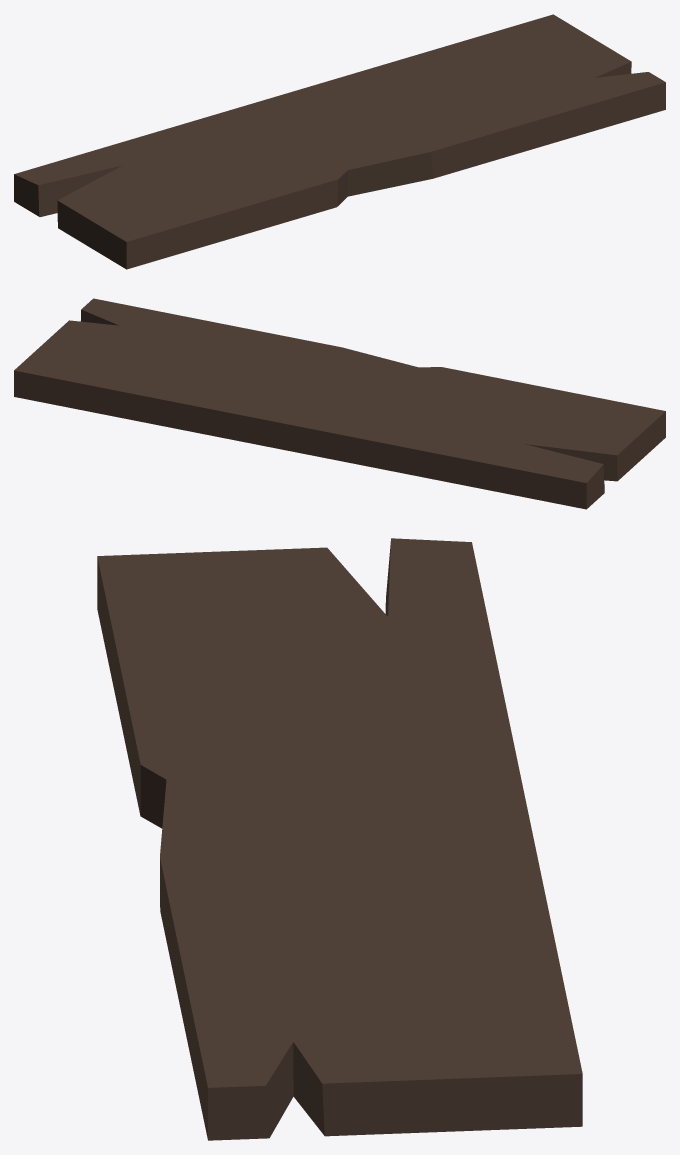
File: Board 1.fbx
3 views of the same model, one above another, from view 1: azimuth 30°, elevation 25°; view 2: azimuth 150°, elevation 25°; view 3: azimuth 270°, elevation 25° (orthographic). The views are drawn at different scales.
Visible parts, largest first — view 1: Board 1; view 2: Board 1; view 3: Board 1.
Boxes of the visible parts, left/top/right/bottom form: Board 1: left=14, top=14, right=665, bottom=269; Board 1: left=14, top=298, right=665, bottom=509; Board 1: left=97, top=538, right=582, bottom=1140.
Bounding box in the file's own units: 120 × 45.02 × 6.1.
